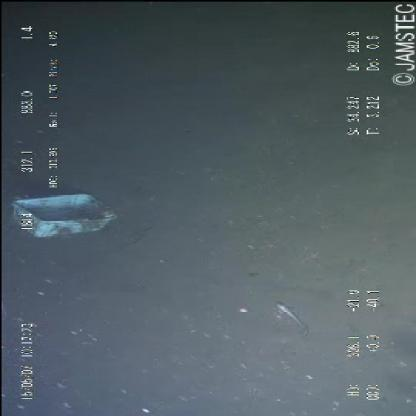Rác: (3, 190, 123, 238)
